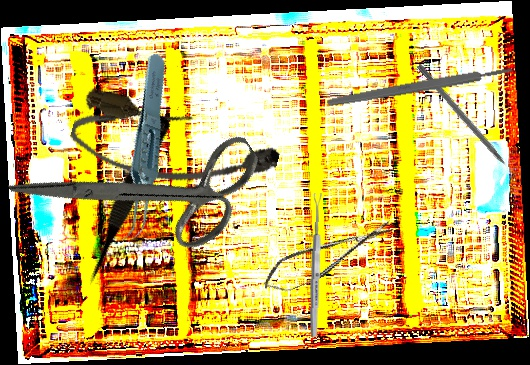Cannula: (64, 84, 285, 210)
Hook Surgical: (415, 63, 519, 181)
Iris Scissors: (7, 63, 282, 317)
Micro Scissor: (75, 111, 173, 289), (257, 213, 400, 300)
Scalpel Handle: (325, 64, 515, 109)
Surgical Spoon: (308, 192, 324, 338)
Tissue Forceps: (82, 51, 204, 248)
